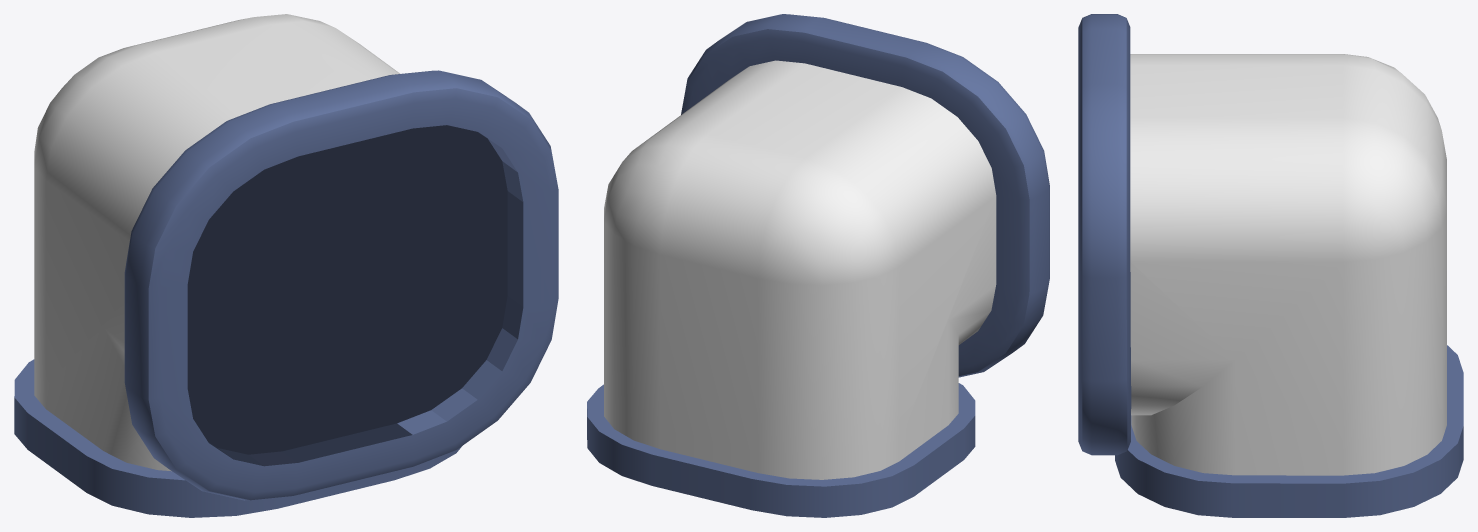
Rendered from Tunnel.fbx.
The picture shows the model from 3 angles, left to right: view 1: azimuth 30°, elevation 25°; view 2: azimuth 150°, elevation 25°; view 3: azimuth 270°, elevation 25°; orthographic projection. The views are drawn at different scales.
Parts seen in each view (by area): view 1: Tunnel; view 2: Tunnel; view 3: Tunnel.
Part boxes in pixels (left/top/right/bottom): Tunnel: left=14, top=14, right=558, bottom=517; Tunnel: left=587, top=14, right=1049, bottom=517; Tunnel: left=1078, top=14, right=1463, bottom=517.
Bounding box in the file's own units: 112 × 103 × 95.48.
